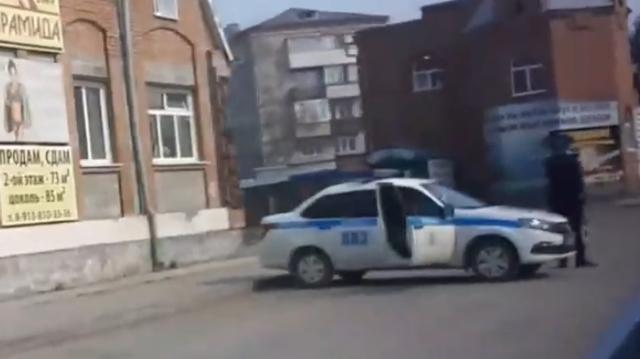police car: (259, 178, 575, 286)
